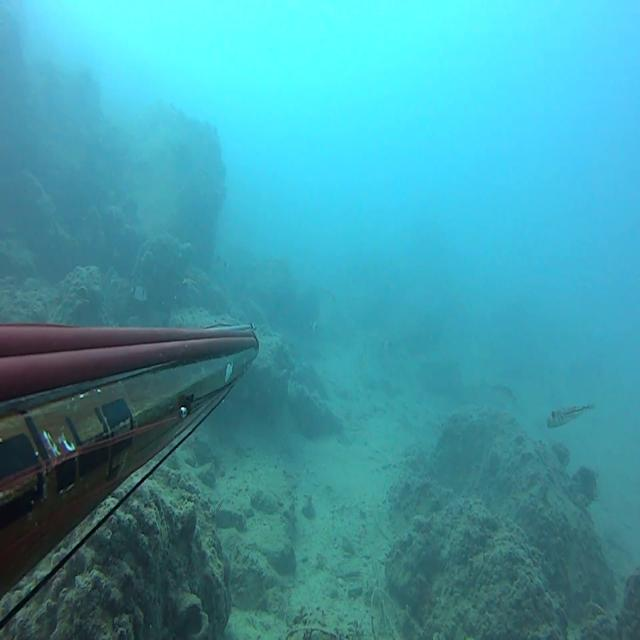Balon Baligi: (547, 402, 596, 428), (182, 278, 199, 292)
